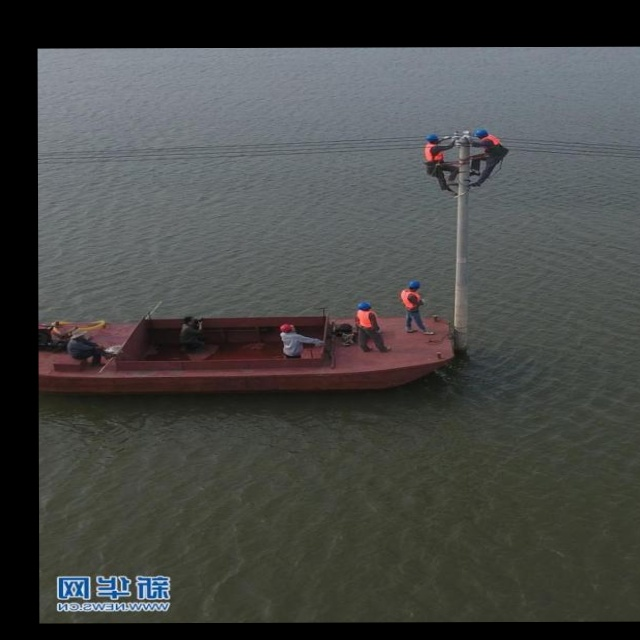Con_Casco: (357, 300, 373, 311), (473, 129, 488, 140), (281, 324, 297, 333), (426, 134, 441, 143), (407, 280, 420, 290)
Sin_Casco_Mascarrilla: (70, 329, 88, 341)
